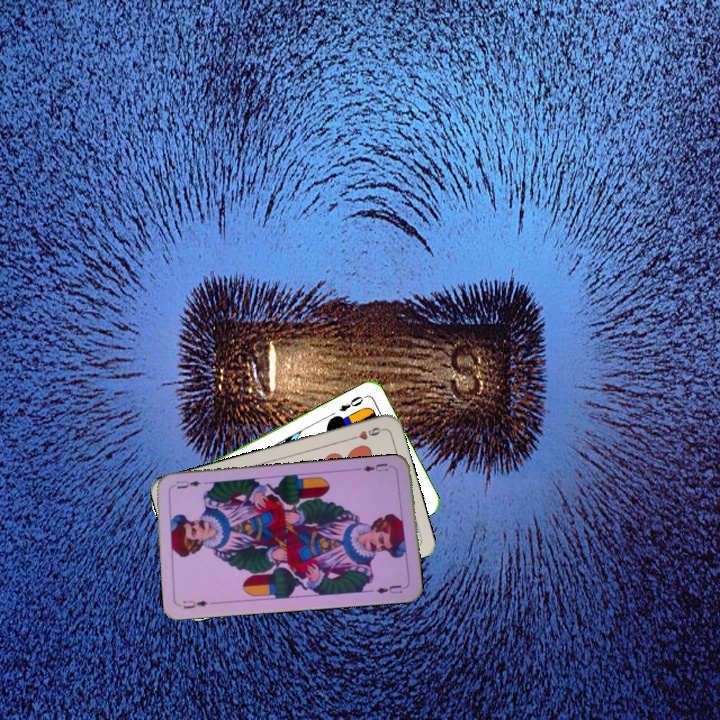EO: (335, 392, 369, 414)
EU: (356, 459, 397, 474), (179, 596, 210, 611)
H9: (347, 423, 386, 443)
